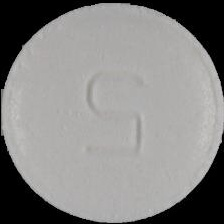60760-305: (0, 0, 224, 224)
